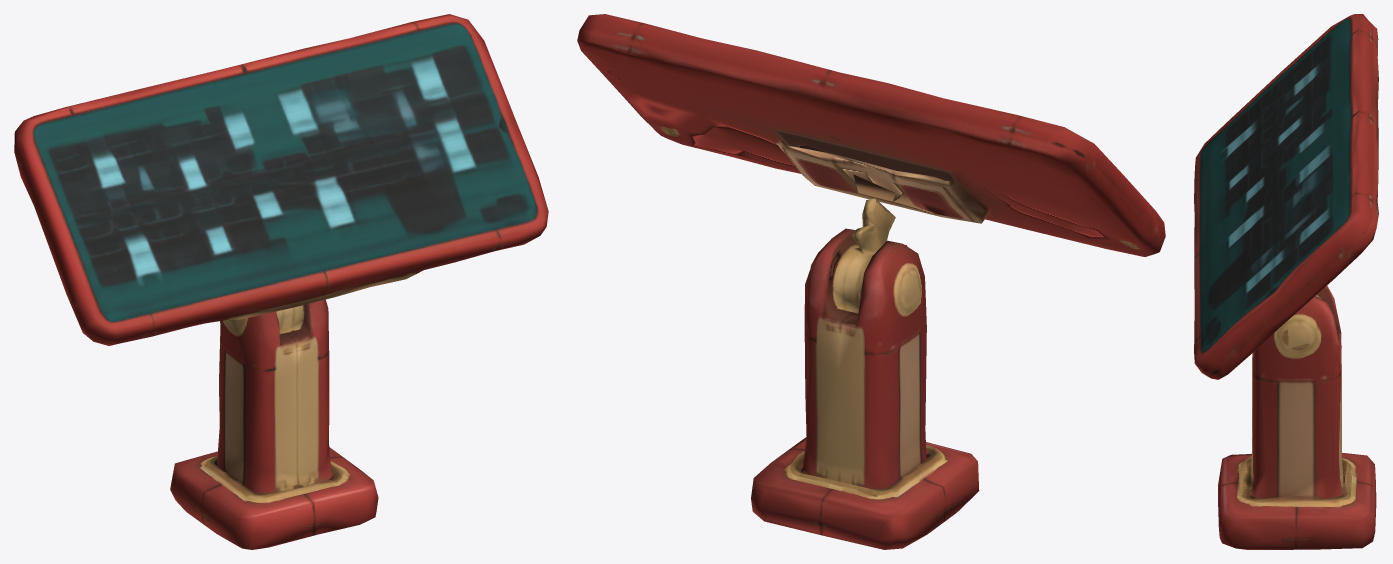
The model's file is solnechnaya-batareya.glb.
The picture shows the model from 3 angles, left to right: view 1: azimuth 30°, elevation 25°; view 2: azimuth 150°, elevation 25°; view 3: azimuth 270°, elevation 25°; orthographic projection. The views are drawn at different scales.
Parts seen in each view (by area): view 1: geometry_0; view 2: geometry_0; view 3: geometry_0.
Part boxes in pixels (x1,y1,x2,y2): geometry_0: [14, 14, 548, 549]; geometry_0: [577, 14, 1165, 549]; geometry_0: [1194, 14, 1378, 549].
Size of the model in its own units: 1 by 0.8712 by 0.358.
Materials: 1 (1 with a texture image).
